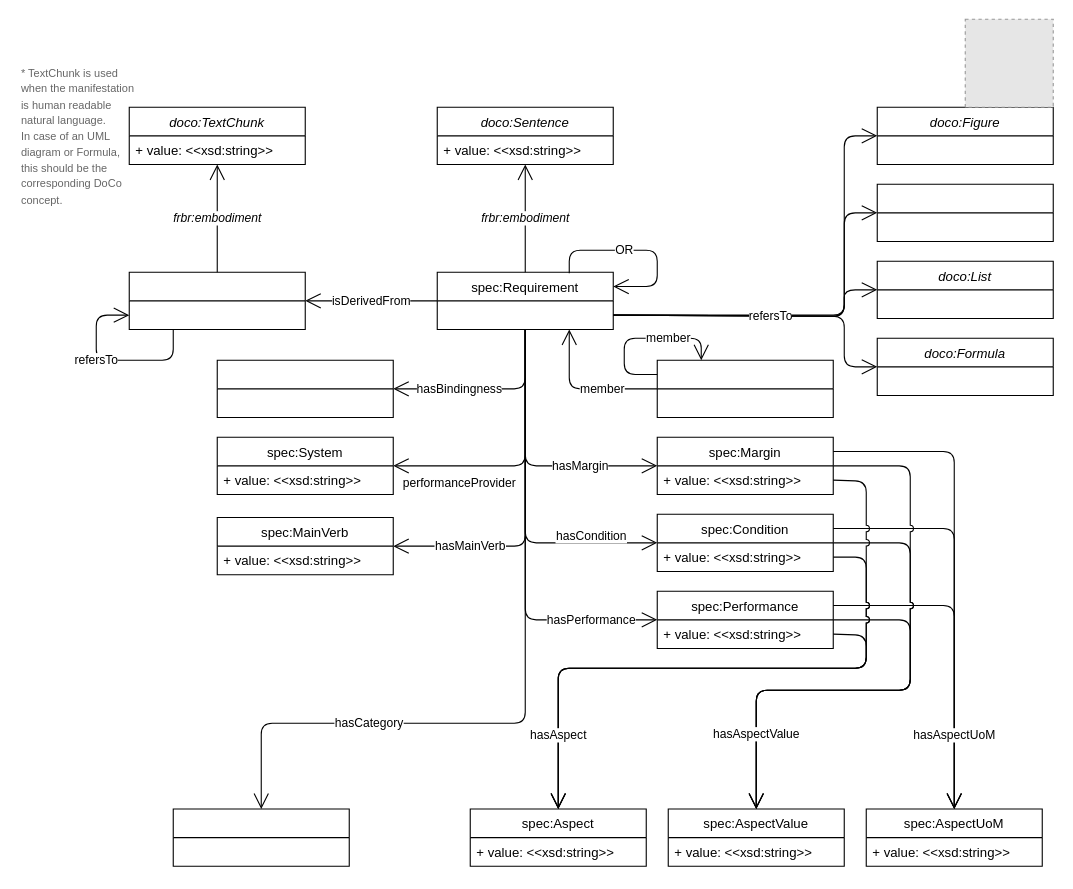
Some shapes in this 1073 by 889 pixel diagram are drawn without their labels. Grey dashed boxes stand in for pictures. Each missing label, with the centre of its shape:
"doco:Table" goes at pixel 964 212.
"spec:Bindingness" goes at pixel 304 388.
"spec:Category" goes at pixel 260 837.
"spec:Container" goes at pixel 744 388.
"spec:Statement" goes at pixel 216 300.
